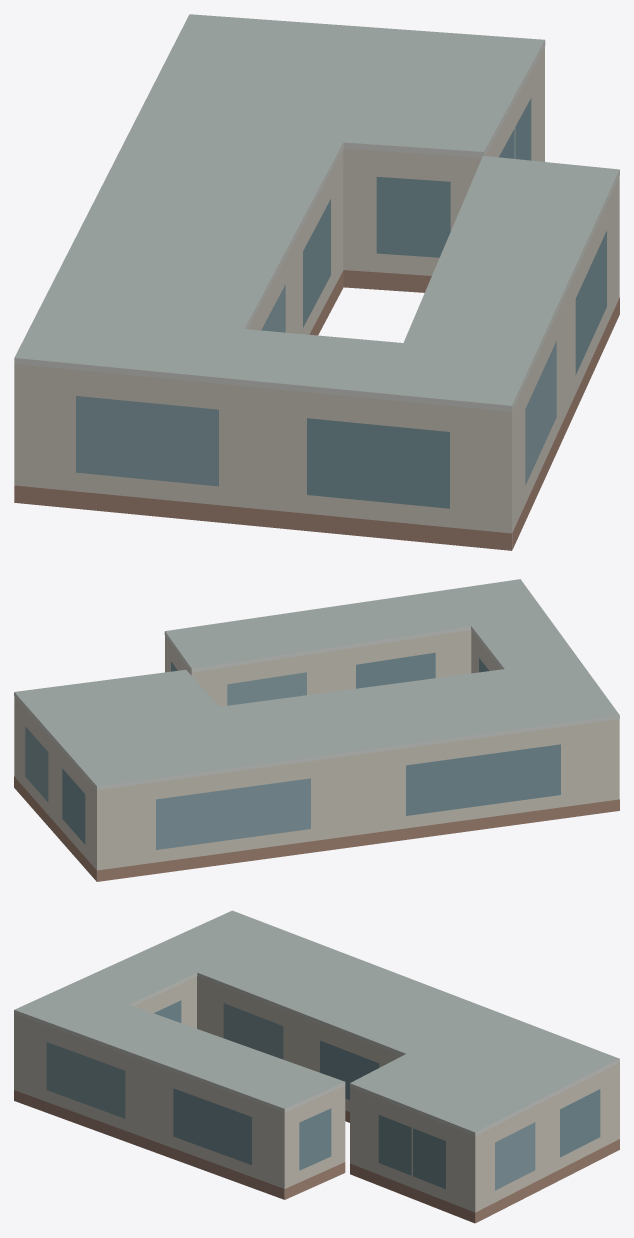
Rendered from survey-upis-32761955.glb.
3 views of the same model, one above another, from view 1: azimuth 30°, elevation 25°; view 2: azimuth 150°, elevation 25°; view 3: azimuth 270°, elevation 25° (orthographic). The views are drawn at different scales.
Parts seen in each view (by area): view 1: survey-upis-32761955.tmp; view 2: survey-upis-32761955.tmp; view 3: survey-upis-32761955.tmp.
Part boxes in pixels (x1,y1,x2,y2): survey-upis-32761955.tmp: (14, 14, 619, 550); survey-upis-32761955.tmp: (14, 579, 619, 881); survey-upis-32761955.tmp: (14, 910, 619, 1223).
Size of the model in its own units: 15.97 by 3.05 by 18.41.
